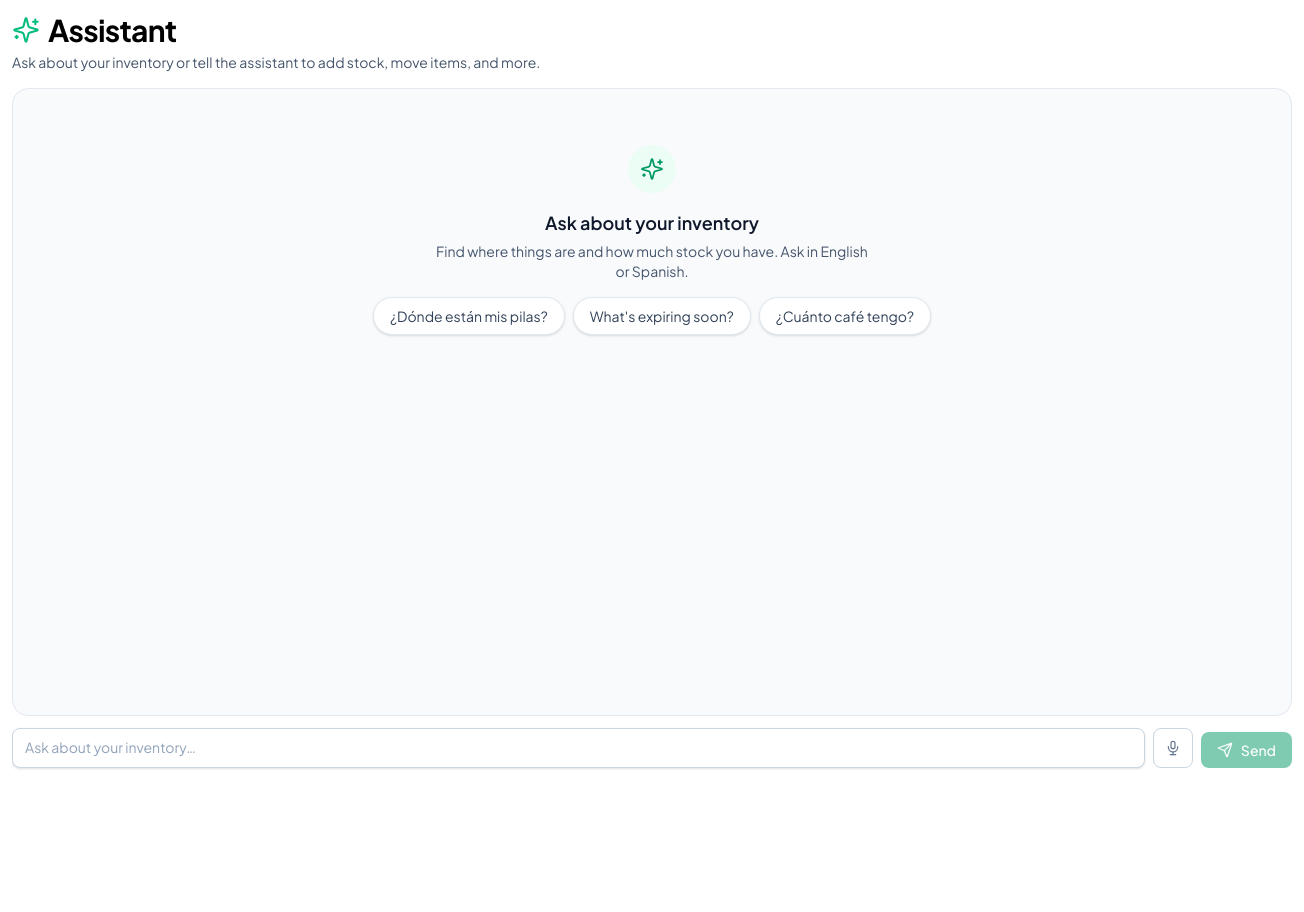
ActionCard › renders clarification quick-reply buttons when the chat response has a question
Type "Add batteries" into the text box named "Ask the assistant".
click(578, 748); type("Add batteries")  # box [12,728,1145,768]
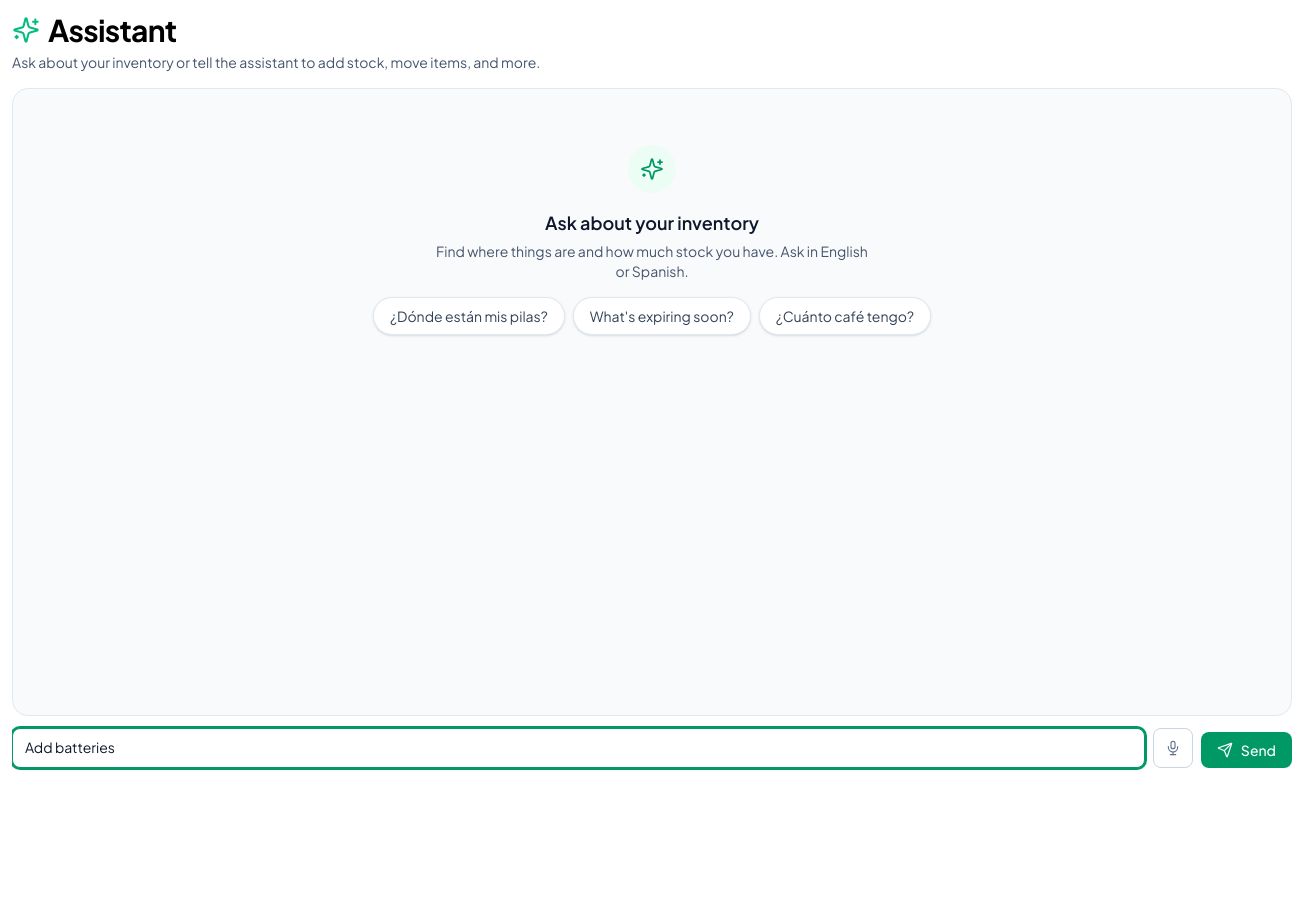
Click the button with aria-label "Send message".
click(1246, 750)  # box [1201,732,1292,768]
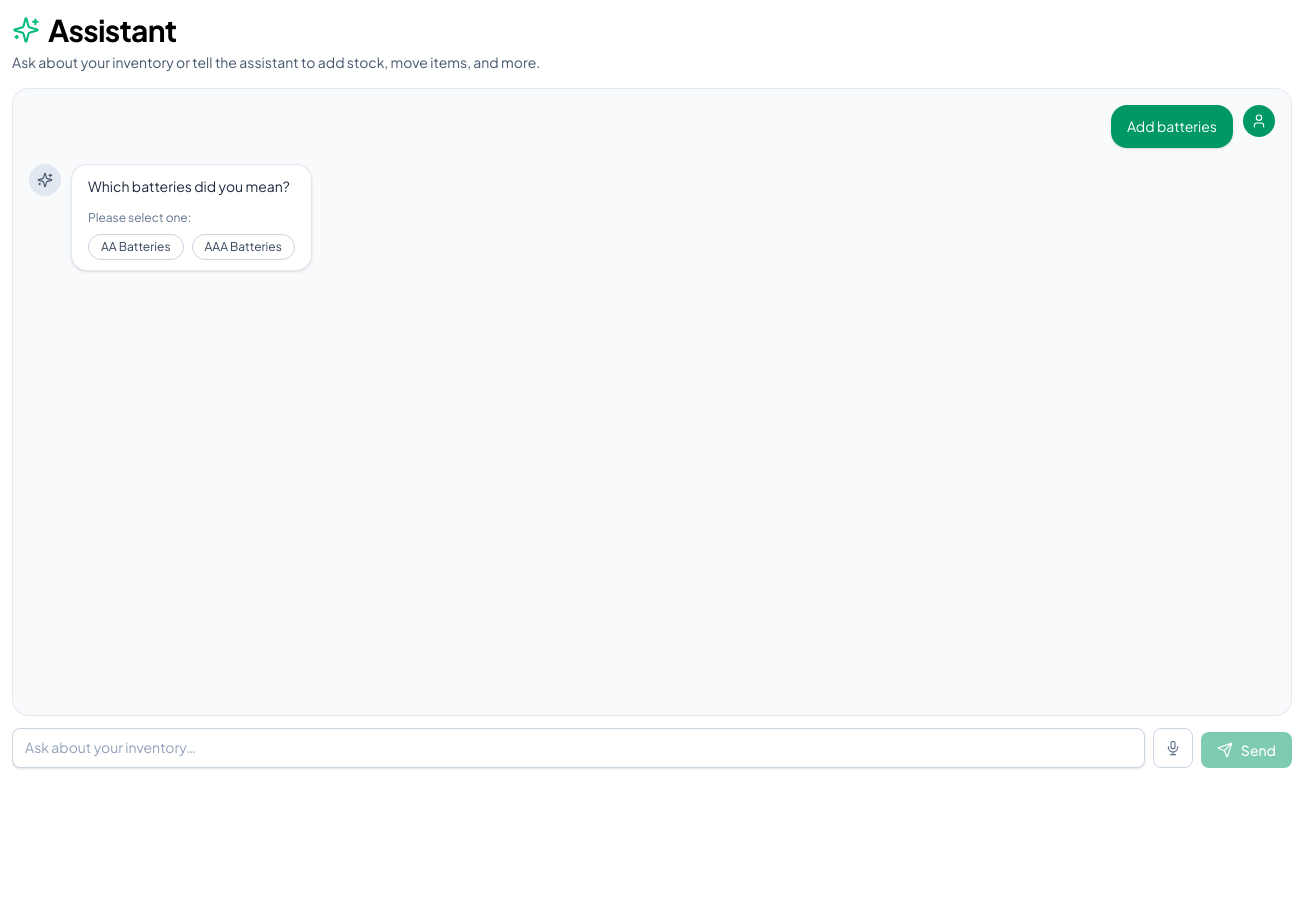
Result: the text "Please select one:" is shown at [88,210,191,224]
Result: the button with aria-label "Select: AA Batteries" is shown at [88,234,184,260]
Result: the button with aria-label "Select: AAA Batteries" is shown at [192,234,295,260]
